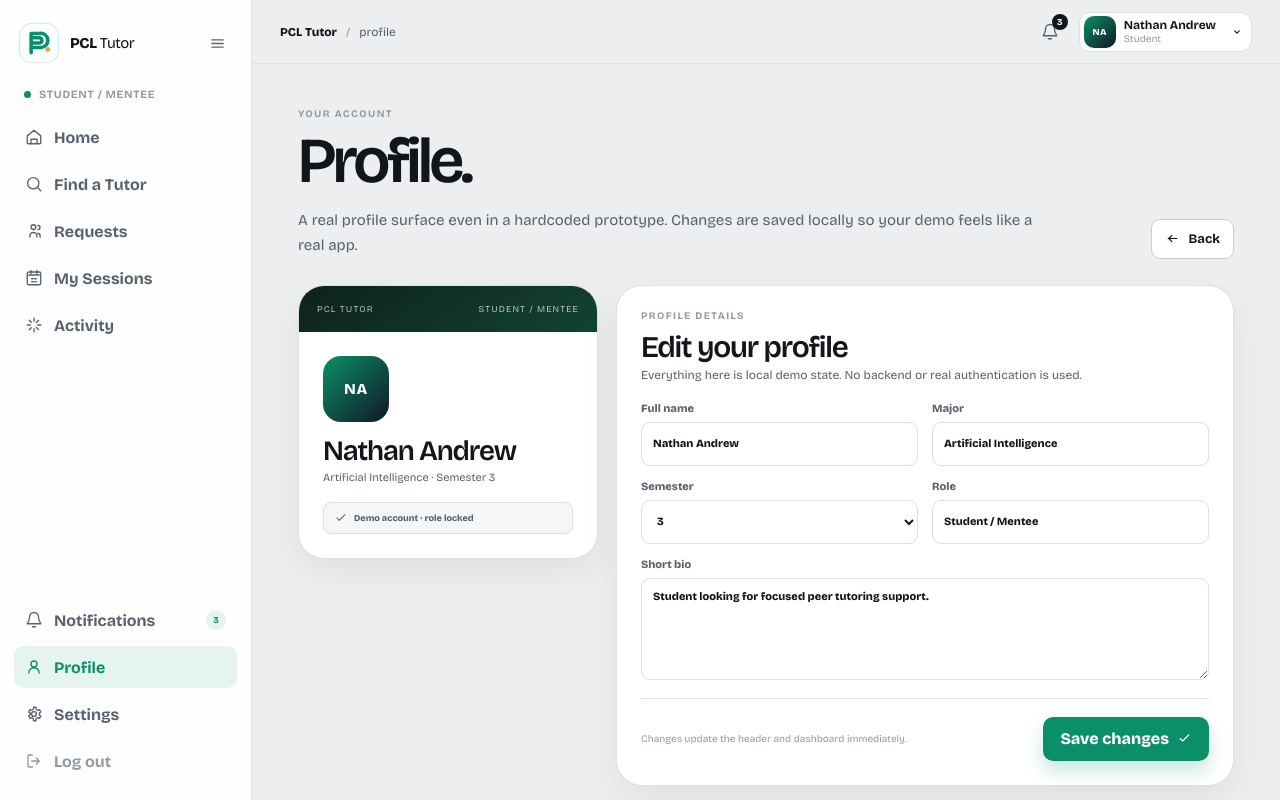
it: profile form › persists the saved name to the signed-in account
Step 1. Replace the text in the field labelled "Full name" with "Nathan Brooks" → (780, 444), box [641, 422, 918, 466]
Then press Enter
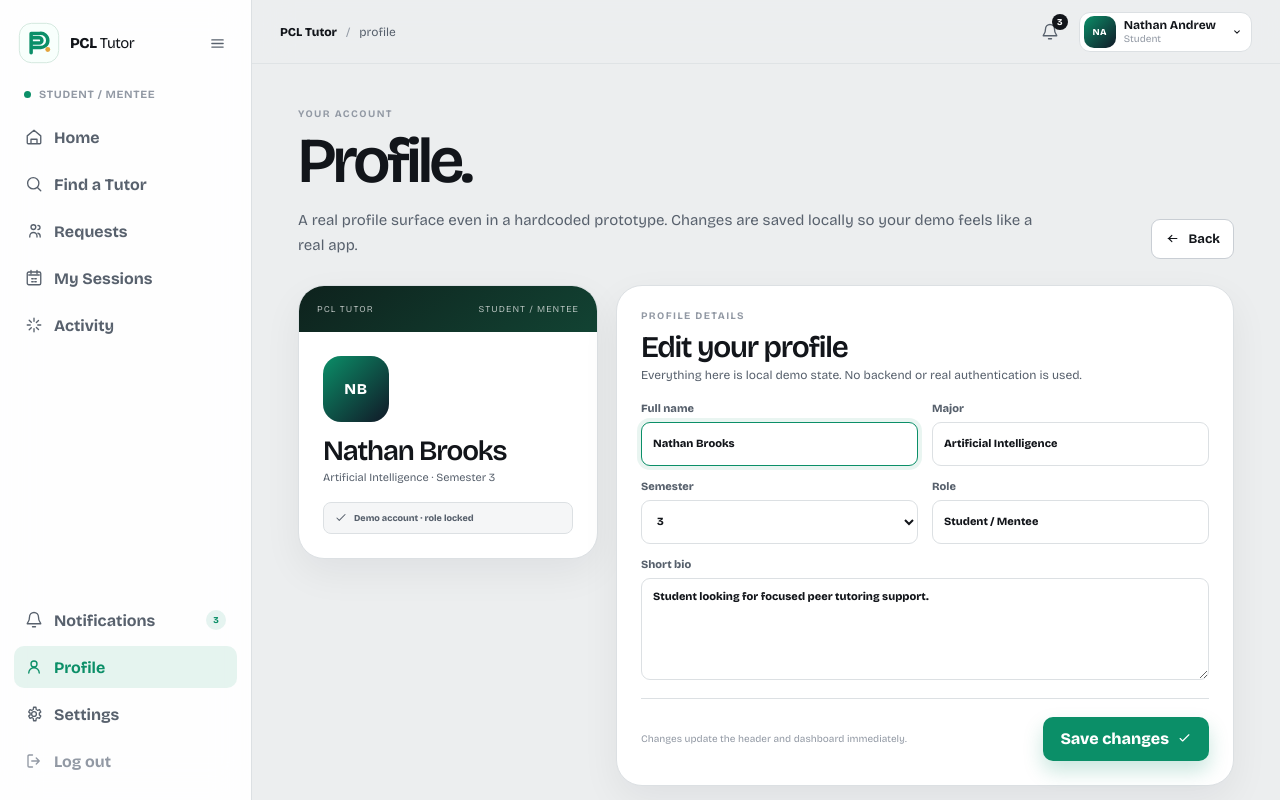
Step 2. Click the button "Save changes" → (1126, 739), box [1043, 717, 1209, 761]
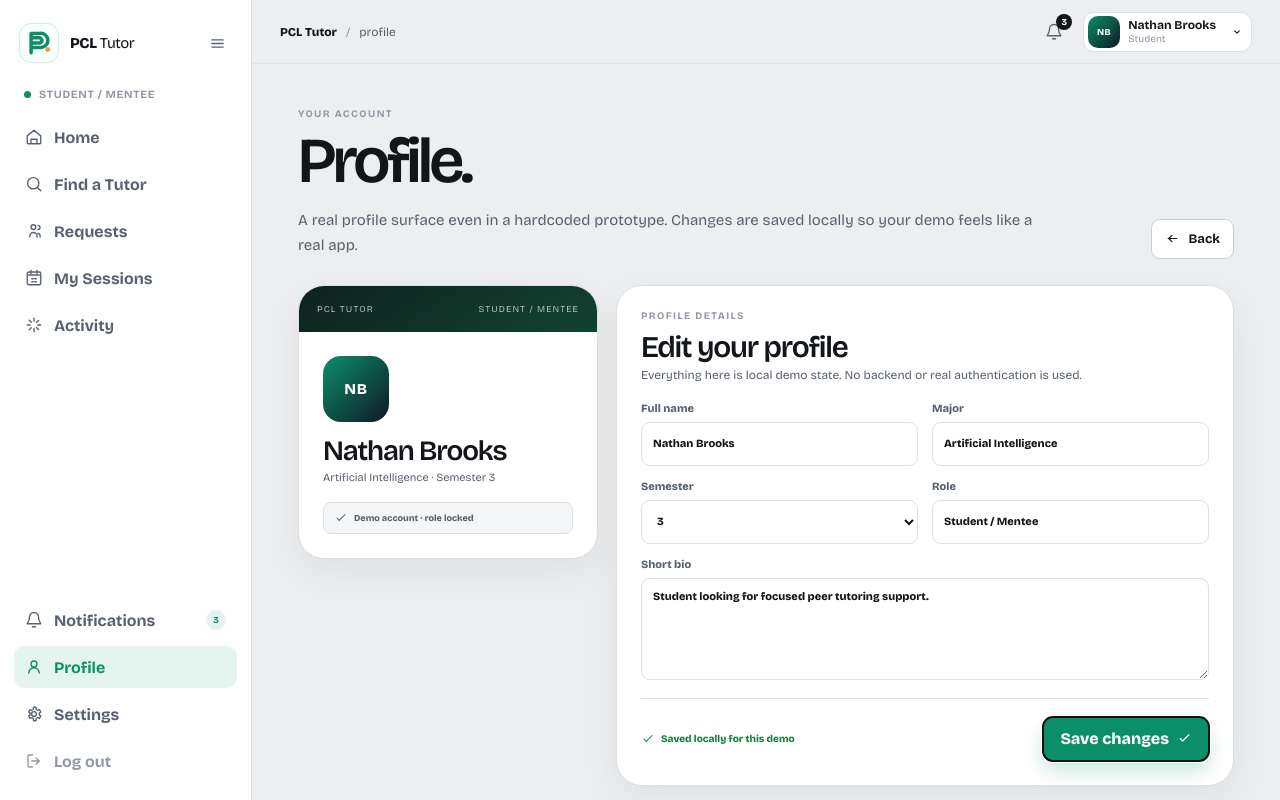
Now the text "Nathan Brooks" is shown, box [1128, 18, 1216, 32]
